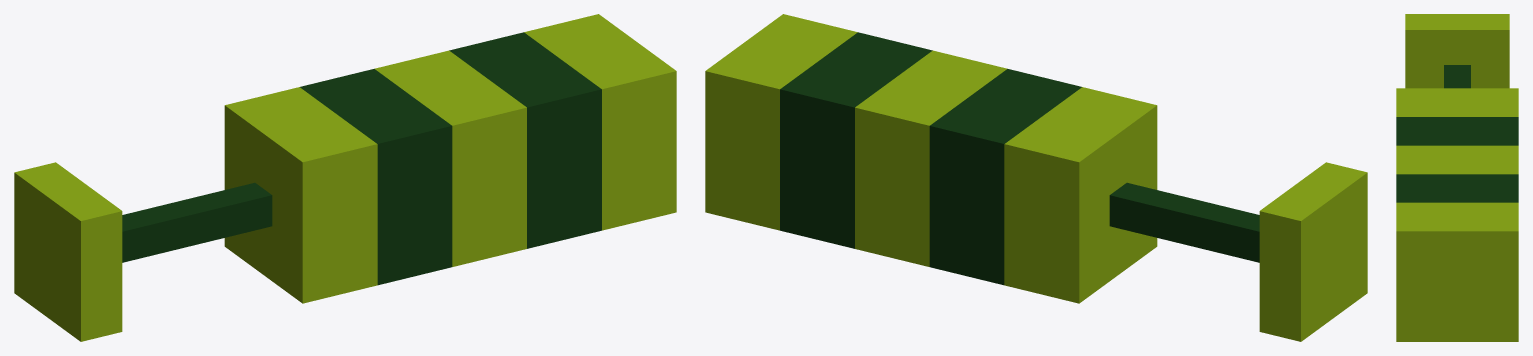
File: party-cannon.obj
The picture shows the model from 3 angles, left to right: view 1: azimuth 30°, elevation 25°; view 2: azimuth 150°, elevation 25°; view 3: azimuth 270°, elevation 25°; orthographic projection. The views are drawn at different scales.
Parts seen in each view (by area): view 1: Cube; view 2: Cube; view 3: Cube.
Part boxes in pixels (x1,y1,x2,y2): Cube: (14,14,676,341); Cube: (705,14,1367,341); Cube: (1396,14,1518,341).
Bounding box in the file's own units: 0.2485 × 0.0569 × 0.0569.
